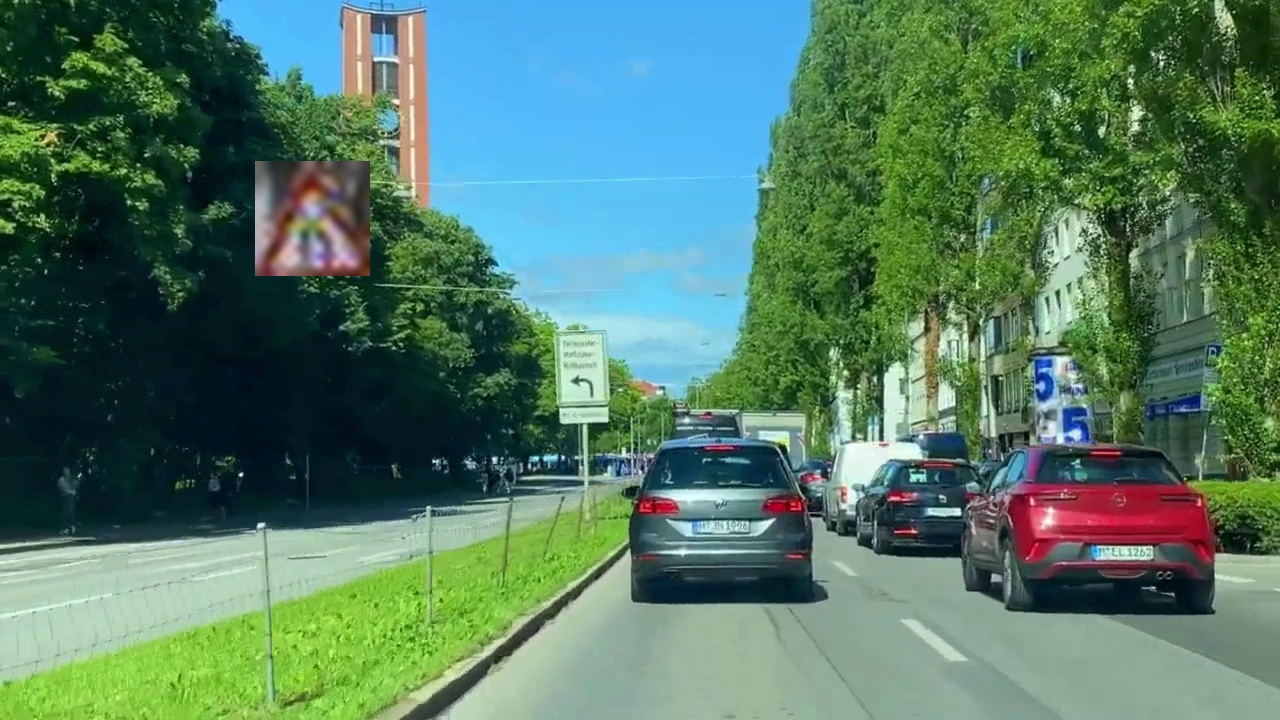Road narrows: (255, 161, 370, 276)
